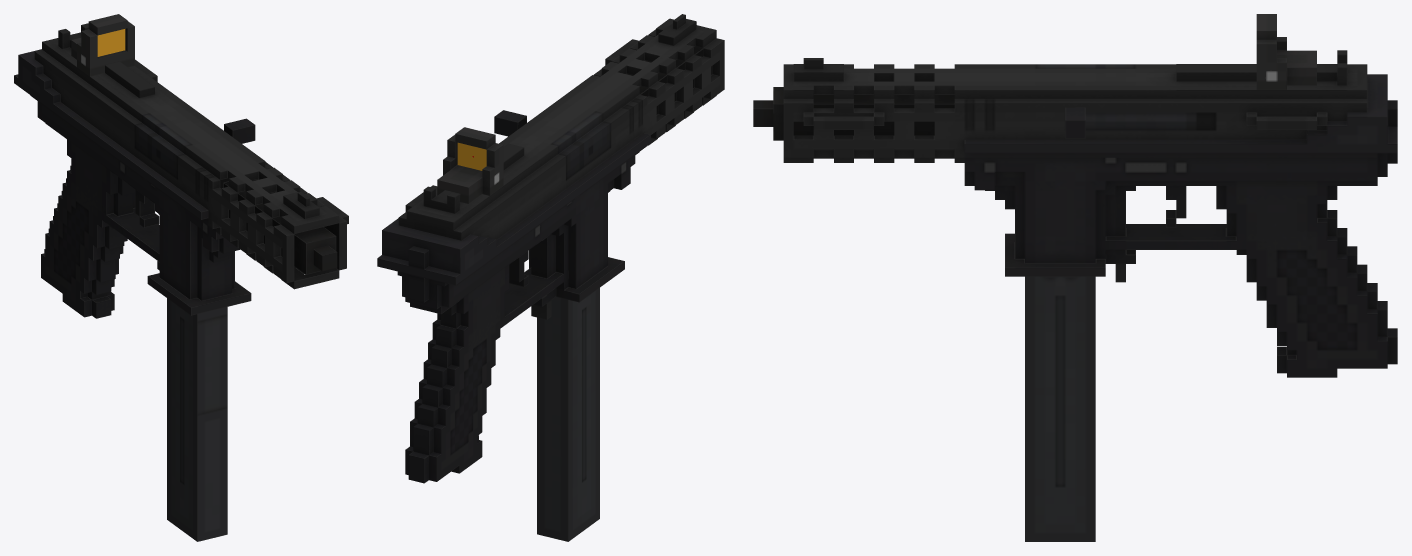
The model's file is RD_TEC9_HALLOWEEN2021.glb.
3 views of the same model, side by side, from view 1: azimuth 30°, elevation 25°; view 2: azimuth 150°, elevation 25°; view 3: azimuth 270°, elevation 25° (orthographic). The views are drawn at different scales.
Visible parts, largest first — view 1: TEC9, TEC9_CLIP, SCOPE_TRIJICON, TEC9_BOLT; view 2: TEC9, TEC9_CLIP, SCOPE_TRIJICON, TEC9_BOLT; view 3: TEC9, TEC9_CLIP, SCOPE_TRIJICON.
Boxes of the visible parts, x1,y1,x2,y2 form: TEC9: (14,23,348,318); TEC9_CLIP: (167,298,227,541); SCOPE_TRIJICON: (71,14,134,76); TEC9_BOLT: (224,118,255,143); TEC9: (377,14,724,483); TEC9_CLIP: (537,288,599,541); SCOPE_TRIJICON: (437,127,503,203); TEC9_BOLT: (494,110,526,136); TEC9: (753,50,1397,377); TEC9_CLIP: (1025,276,1095,541); SCOPE_TRIJICON: (1256,14,1316,89).
Size of the model in its own units: 0.128 by 0.5512 by 0.6299.
Materials: 3 (3 with a texture image).
